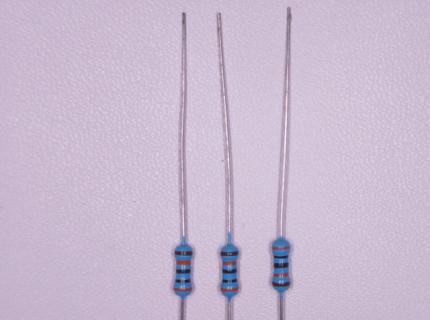Black band: (274, 263, 288, 268), (223, 269, 237, 273), (177, 269, 190, 273), (176, 280, 190, 283), (223, 279, 237, 282), (274, 256, 288, 258)
Brown band: (221, 251, 238, 256), (273, 282, 289, 287), (175, 251, 192, 255)
Orange band: (221, 287, 238, 292), (176, 260, 191, 265), (174, 287, 192, 291), (223, 261, 237, 265), (274, 273, 288, 277), (273, 246, 290, 249)
